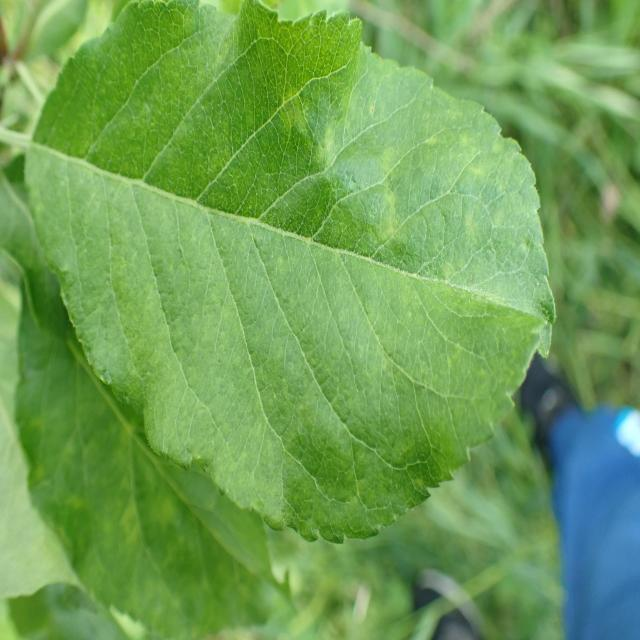scab: (37, 42, 551, 419)
